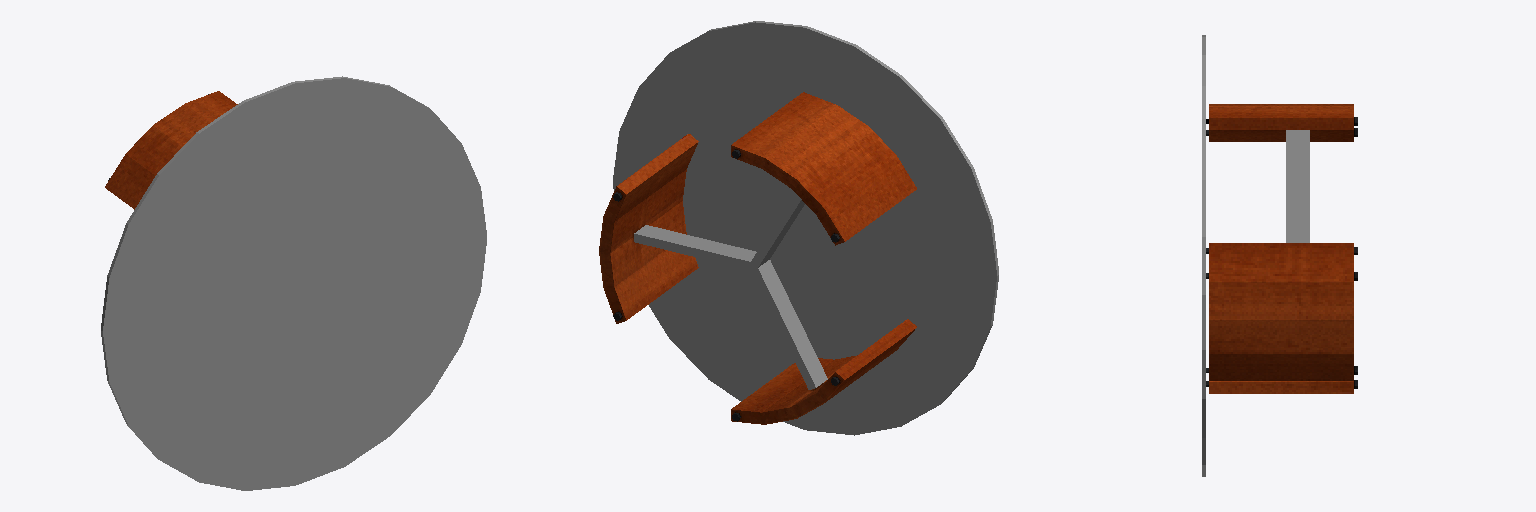
3 views of the same model, side by side, from view 1: azimuth 30°, elevation 25°; view 2: azimuth 150°, elevation 25°; view 3: azimuth 270°, elevation 25° (orthographic).
Parts seen in each view (by area): view 1: 10222_Coffee_Table_v1_glass, 10222_Coffee_Table_v1_body; view 2: 10222_Coffee_Table_v1_glass, 10222_Coffee_Table_v1_body; view 3: 10222_Coffee_Table_v1_body, 10222_Coffee_Table_v1_glass.
Boxes of the visible parts, box(x1,y1,x2,y2) form: 10222_Coffee_Table_v1_glass: box(101, 76, 486, 490); 10222_Coffee_Table_v1_body: box(105, 91, 237, 209); 10222_Coffee_Table_v1_glass: box(613, 21, 998, 435); 10222_Coffee_Table_v1_body: box(599, 92, 916, 424); 10222_Coffee_Table_v1_body: box(1206, 104, 1357, 393); 10222_Coffee_Table_v1_glass: box(1202, 35, 1309, 476).
Size of the model in its own units: 102 by 102 by 36.
Materials: 2 (1 with a texture image).